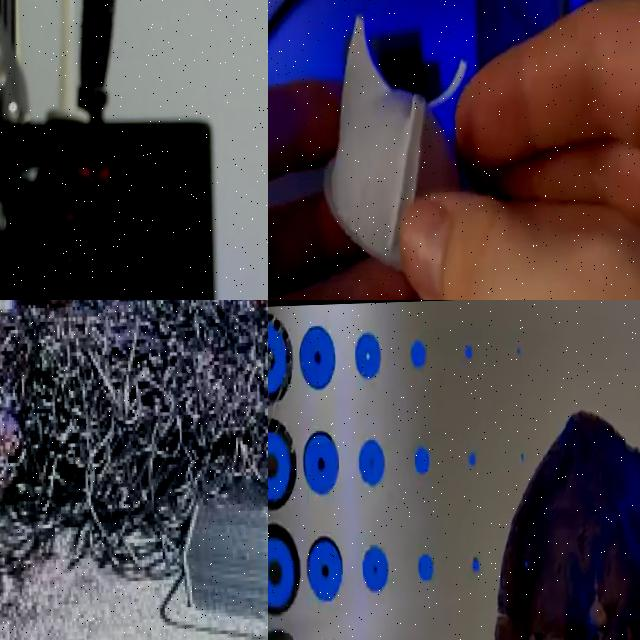spaghetti: (0, 300, 268, 576)
